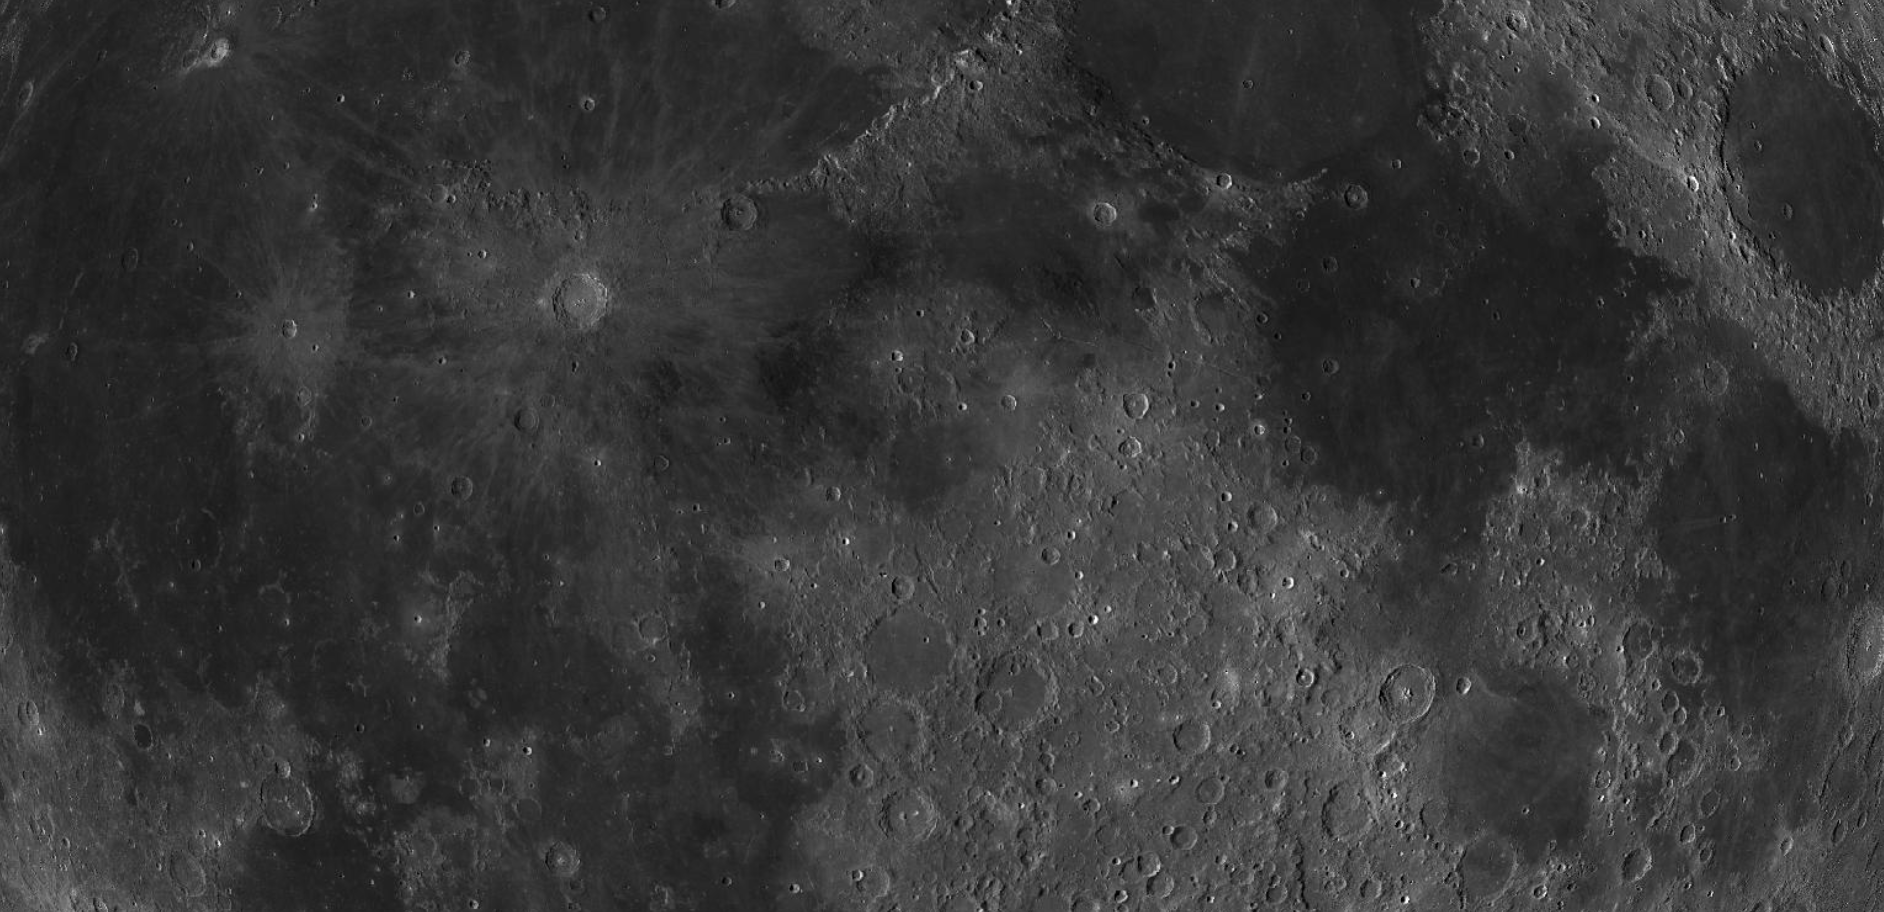crater: (401, 141, 709, 407), (223, 256, 372, 428), (842, 592, 979, 721), (151, 4, 298, 102), (1363, 658, 1450, 743), (248, 771, 329, 848), (871, 783, 944, 852), (1079, 180, 1143, 242), (710, 181, 771, 240), (1635, 62, 1680, 141), (1305, 242, 1361, 299), (434, 461, 491, 511), (1165, 713, 1223, 758), (24, 707, 68, 759), (125, 717, 171, 762), (1314, 347, 1354, 392)
